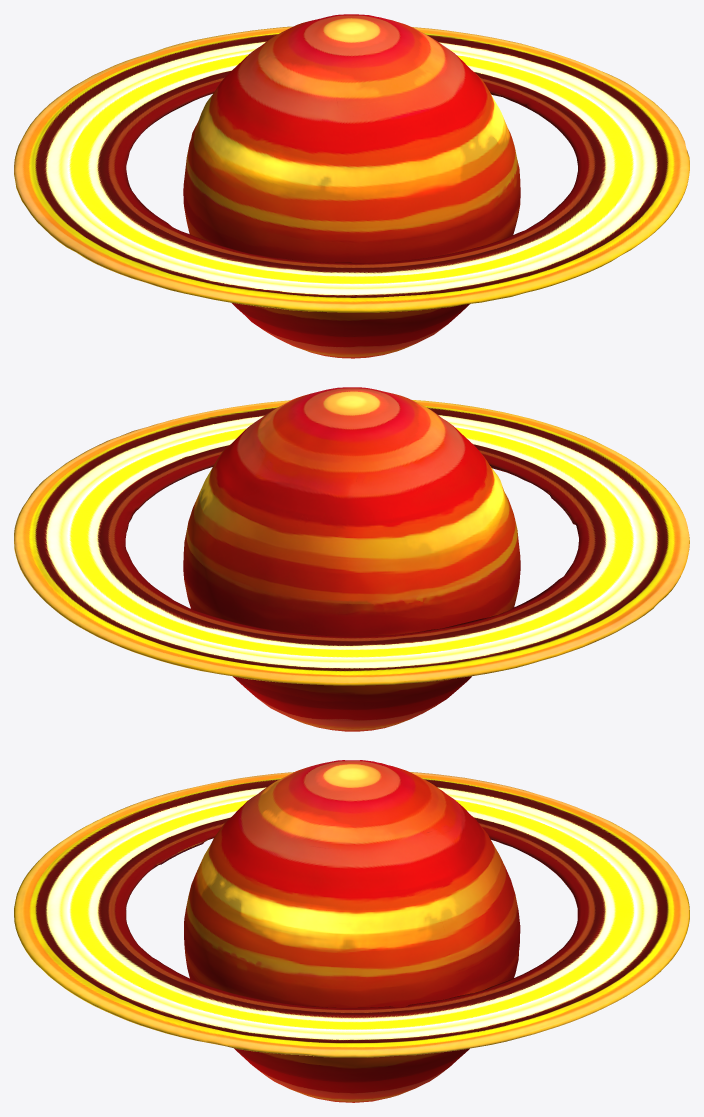
File: Meshy_AI_Crimson_Ringed_Planet_0520072115_texture.glb
3 renders of one model, top to bottom at view 1: azimuth 30°, elevation 25°; view 2: azimuth 150°, elevation 25°; view 3: azimuth 270°, elevation 25°, orthographic.
Visible parts, largest first — view 1: Mesh_0; view 2: Mesh_0; view 3: Mesh_0.
Part boxes in pixels (bbox=[...]): Mesh_0: bbox=[14, 14, 689, 358]; Mesh_0: bbox=[14, 387, 689, 731]; Mesh_0: bbox=[14, 760, 689, 1102].
Size of the model in its own units: 1.91 by 0.9843 by 1.91.
Materials: 1 (1 with a texture image).
